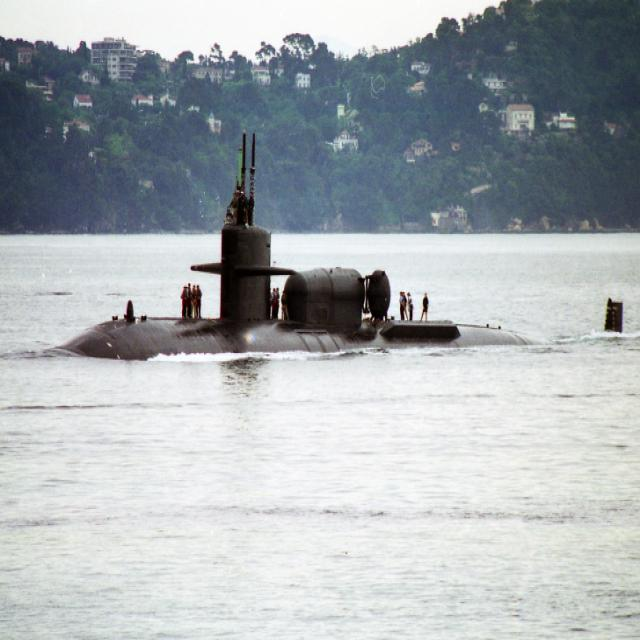submarine: (50, 117, 640, 358)
